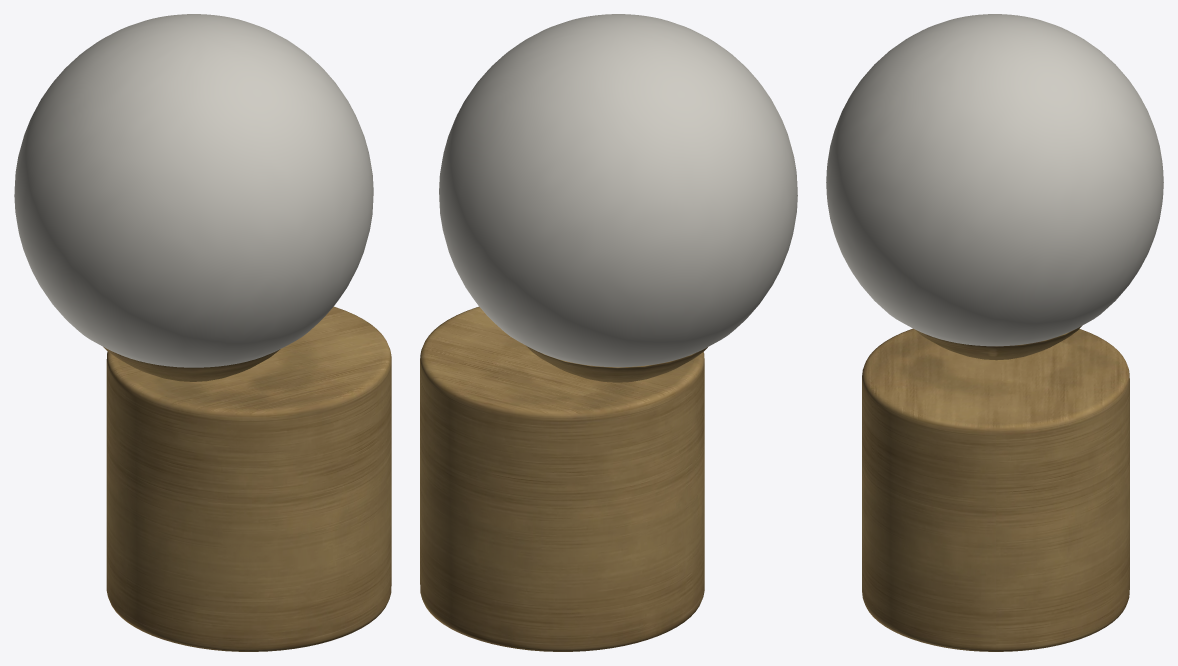
File: table_lamp_abo_B075X2LLWF.glb
3 views of the same model, side by side, from view 1: azimuth 30°, elevation 25°; view 2: azimuth 150°, elevation 25°; view 3: azimuth 270°, elevation 25° (orthographic). The views are drawn at different scales.
Visible parts, largest first — view 1: RootNode; view 2: RootNode; view 3: RootNode.
Part boxes in pixels (box(x1,y1,x2,y2)): RootNode: box(14, 14, 391, 651); RootNode: box(420, 14, 797, 651); RootNode: box(826, 14, 1163, 651).
Size of the model in its own units: 0.1519 by 0.2504 by 0.1413.
1 material, 1 textured.
